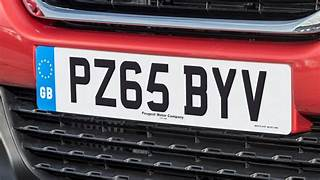number_plate: (36, 44, 291, 132)
